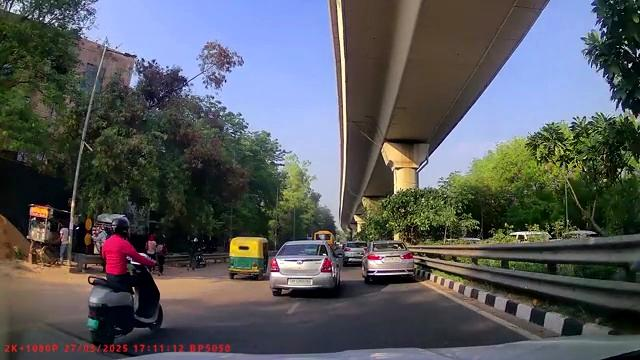motorcycle_with_helmet: (85, 214, 165, 343)
